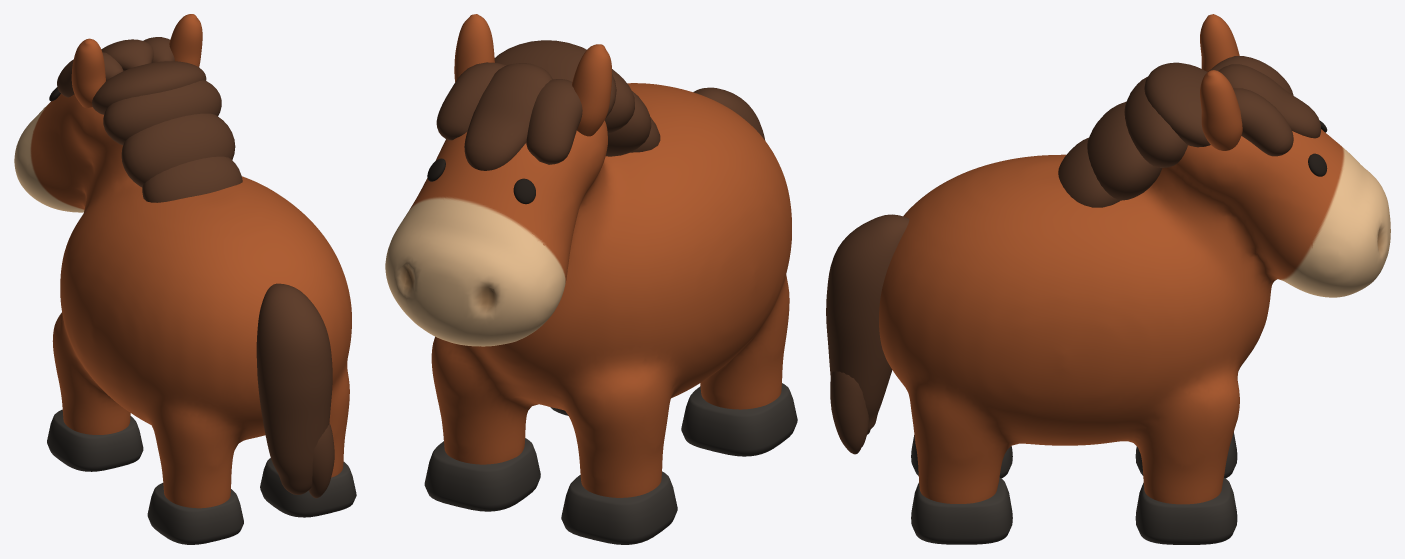
3 views of the same model, side by side, from view 1: azimuth 30°, elevation 25°; view 2: azimuth 150°, elevation 25°; view 3: azimuth 270°, elevation 25° (orthographic). The views are drawn at different scales.
Size of the model in its own units: 0.889 by 1.51 by 1.7.
Materials: 1 (1 with a texture image).
